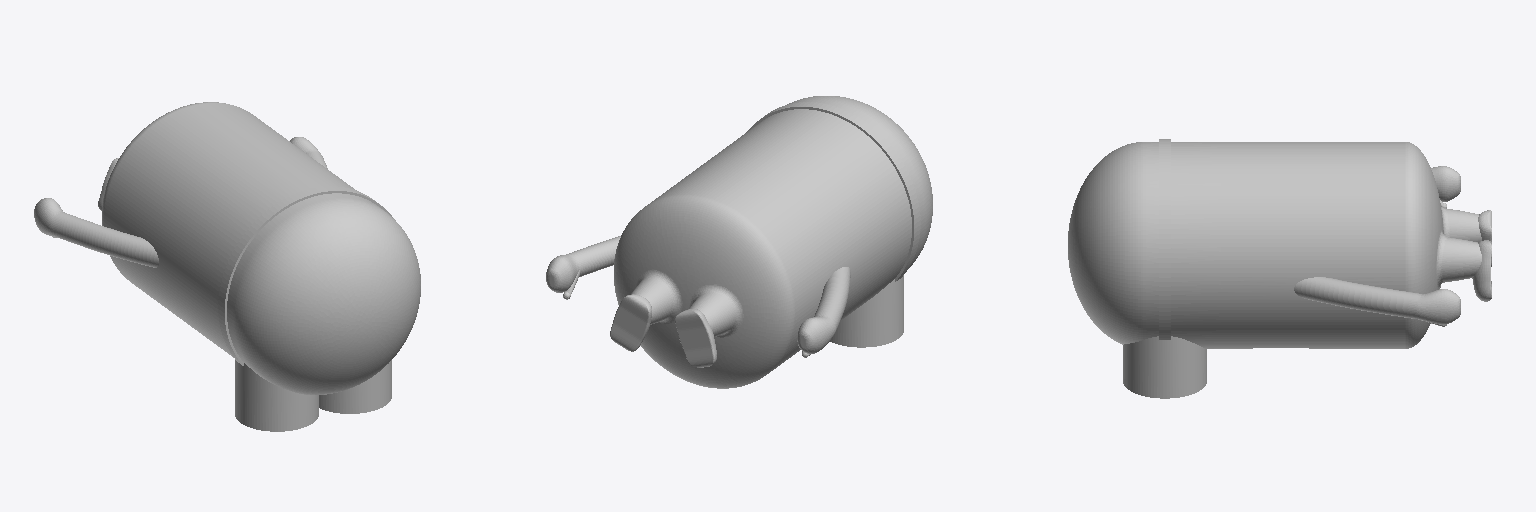
The model's file is 86250-minion_QEM_50pct.obj.
3 views of the same model, side by side, from view 1: azimuth 30°, elevation 25°; view 2: azimuth 150°, elevation 25°; view 3: azimuth 270°, elevation 25° (orthographic).
Bounding box in the file's own units: 0.7522 × 0.556 × 1.